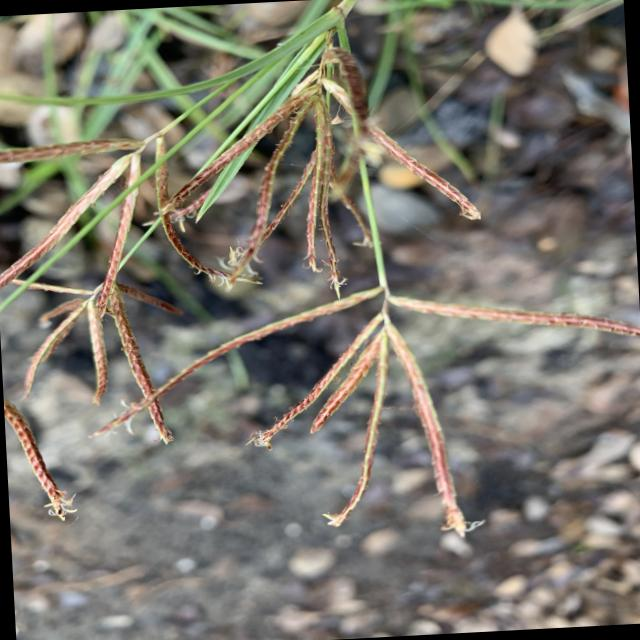cyperus: (0, 33, 640, 565)
